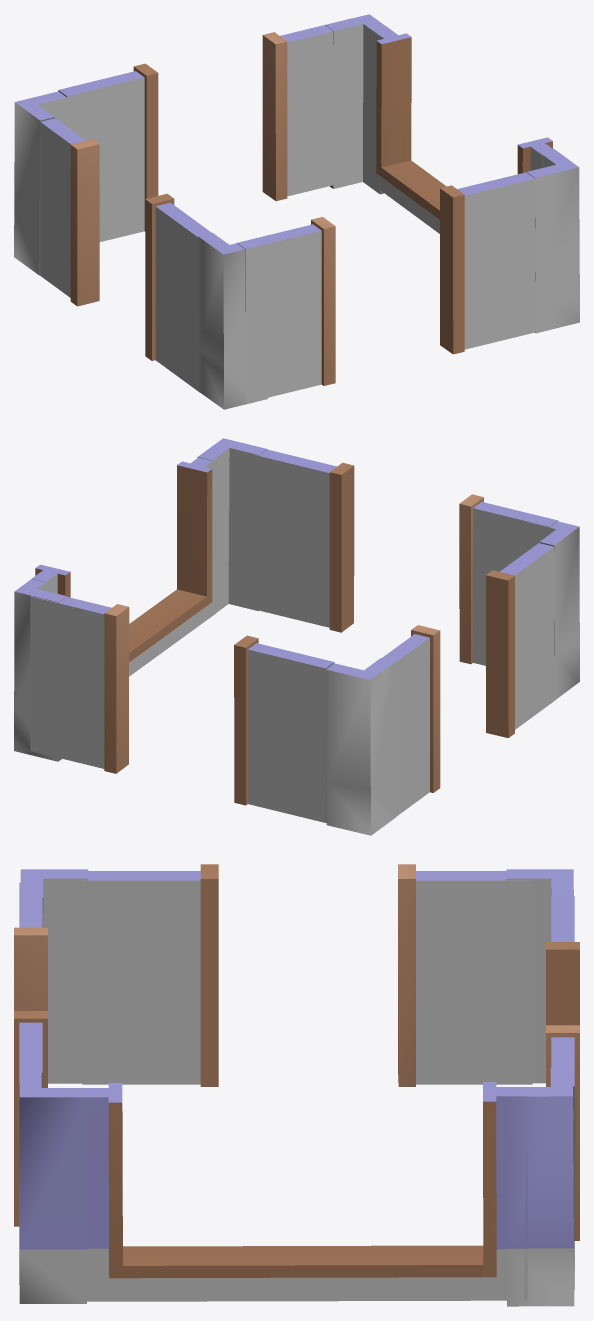
File: SALON.fbx
The picture shows the model from 3 angles, top to bottom: view 1: azimuth 30°, elevation 25°; view 2: azimuth 150°, elevation 25°; view 3: azimuth 270°, elevation 25°; orthographic projection. The views are drawn at different scales.
Visible parts, largest first — view 1: paret_puerta59, paret_puerta55, paret_puerta51, paret_con_ventana_grande25, paret_esquina_103, paret_esquina_102, paret_esquina_94, paret_esquina_88; view 2: paret_puerta55, paret_puerta59, paret_puerta51, paret_esquina_88, paret_con_ventana_grande25, paret_esquina_102, paret_esquina_103, paret_esquina_94; view 3: paret_puerta51, paret_con_ventana_grande25, paret_esquina_102, paret_esquina_94, paret_esquina_103, paret_puerta59, paret_puerta55, paret_esquina_88.
Part boxes in pixels (x1,y1,x2,y2): paret_puerta59: (237,172,535,402); paret_puerta55: (58,18,361,241); paret_puerta51: (30,115,211,392); paret_con_ventana_grande25: (372,26,552,233); paret_esquina_103: (197,232,267,409); paret_esquina_102: (527,148,579,333); paret_esquina_94: (325,14,386,194); paret_esquina_88: (14,91,66,275); paret_puerta55: (30,596,334,822); paret_puerta59: (254,449,558,665); paret_puerta51: (382,543,555,815); paret_esquina_88: (326,658,396,835); paret_con_ventana_grande25: (32,457,216,676); paret_esquina_102: (197,438,267,612); paret_esquina_103: (527,521,579,700); paret_esquina_94: (14,576,66,761); paret_puerta51: (82,864,532,1086); paret_con_ventana_grande25: (87,1082,527,1301); paret_esquina_102: (19,1069,86,1303); paret_esquina_94: (505,1068,574,1306); paret_esquina_103: (20,869,88,1083); paret_puerta59: (14,882,47,1226); paret_puerta55: (546,896,579,1289); paret_esquina_88: (506,869,573,1083).
Bounding box in the file's own units: 823 × 346 × 831.
